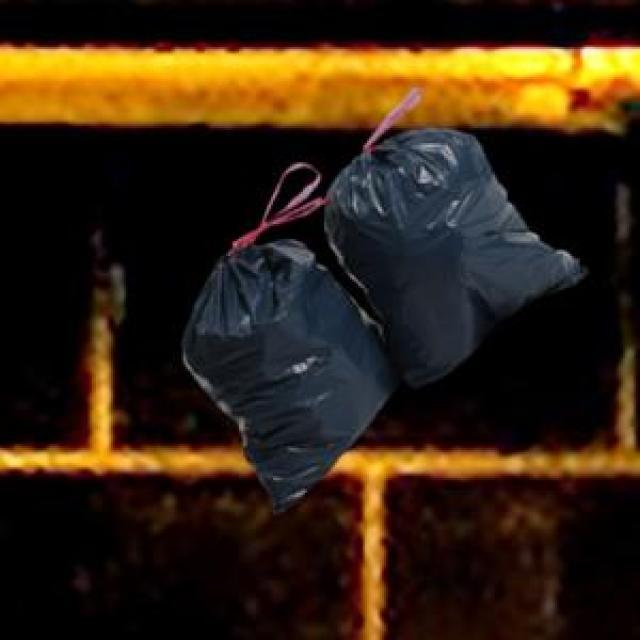Trashbag: (345, 136, 564, 369), (179, 253, 369, 501)
